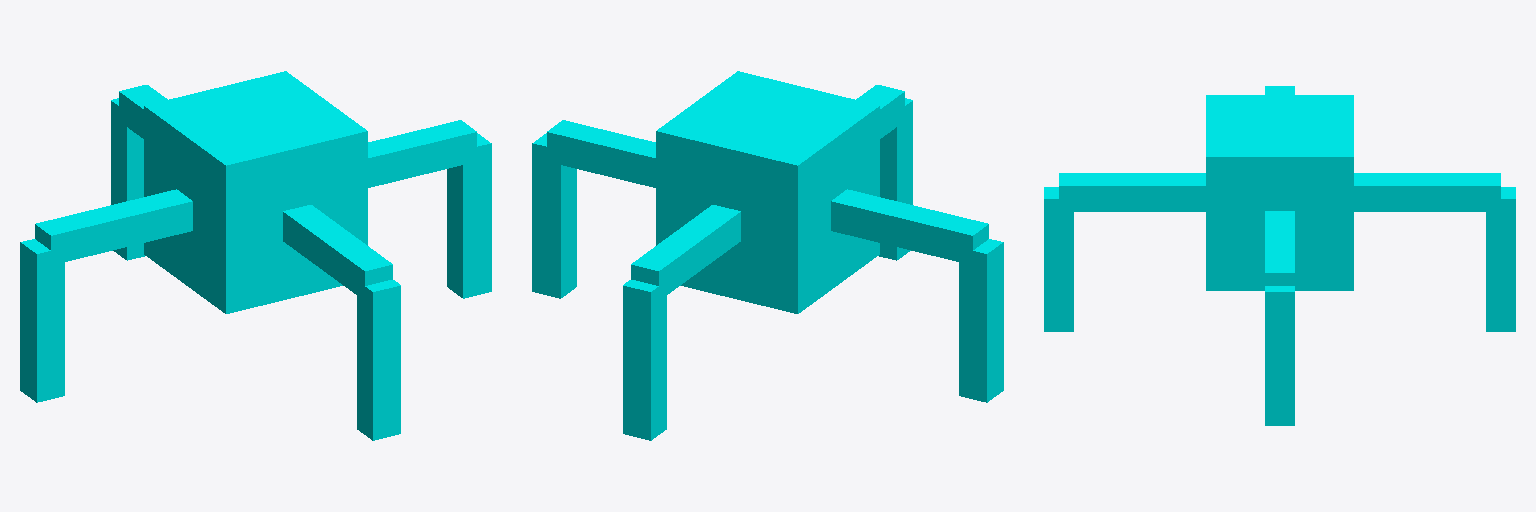
URDF robot description (robot):
<robot name = "robot">
    <link name="Torso">
        <inertial>
            <origin xyz="0.0 0.0 1.0" rpy="0 0 0"/>
            <mass value="1" />
            <inertia ixx="100" ixy="0" ixz="0" iyy="100" iyz="0" izz="100" />
        </inertial>
        <visual>
            <origin xyz="0.0 0.0 1.0" rpy="0 0 0"/>
            <geometry>
                <box size="1.0 1.0 1.0" />
            </geometry>
            <material name="Cyan">
                <color rgba="0 1.0 1.0 1.0"/>
            </material>
        </visual>
        <collision>
            <origin xyz="0.0 0.0 1.0" rpy="0 0 0"/>
            <geometry>
                <box size="1.0 1.0 1.0" />
            </geometry>
        </collision>
    </link>
    <joint name="Torso_BackLeg" type="revolute">
       <parent link="Torso"/>
       <child  link="BackLeg"/>
       <origin rpy="0 0 0" xyz="0.0 -0.5 1.0" />
     <axis xyz="1 0 0"/>
       <limit effort="0.0" lower="-3.14159" upper="3.14159" velocity="0.0"/>
    </joint>
    <link name="BackLeg">
        <inertial>
            <origin xyz="0.0 -0.5 0.0" rpy="0 0 0"/>
            <mass value="1" />
            <inertia ixx="100" ixy="0" ixz="0" iyy="100" iyz="0" izz="100" />
        </inertial>
        <visual>
            <origin xyz="0.0 -0.5 0.0" rpy="0 0 0"/>
            <geometry>
                <box size="0.2 1.0 0.2" />
            </geometry>
            <material name="Cyan">
                <color rgba="0 1.0 1.0 1.0"/>
            </material>
        </visual>
        <collision>
            <origin xyz="0.0 -0.5 0.0" rpy="0 0 0"/>
            <geometry>
                <box size="0.2 1.0 0.2" />
            </geometry>
        </collision>
    </link>
    <joint name="Torso_FrontLeg" type="revolute">
       <parent link="Torso"/>
       <child  link="FrontLeg"/>
       <origin rpy="0 0 0" xyz="0.0 0.5 1.0" />
     <axis xyz="1 0 0"/>
       <limit effort="0.0" lower="-3.14159" upper="3.14159" velocity="0.0"/>
    </joint>
    <link name="FrontLeg">
        <inertial>
            <origin xyz="0.0 0.5 0.0" rpy="0 0 0"/>
            <mass value="1" />
            <inertia ixx="100" ixy="0" ixz="0" iyy="100" iyz="0" izz="100" />
        </inertial>
        <visual>
            <origin xyz="0.0 0.5 0.0" rpy="0 0 0"/>
            <geometry>
                <box size="0.2 1.0 0.2" />
            </geometry>
            <material name="Cyan">
                <color rgba="0 1.0 1.0 1.0"/>
            </material>
        </visual>
        <collision>
            <origin xyz="0.0 0.5 0.0" rpy="0 0 0"/>
            <geometry>
                <box size="0.2 1.0 0.2" />
            </geometry>
        </collision>
    </link>
    <joint name="Torso_LeftLeg" type="revolute">
       <parent link="Torso"/>
       <child  link="LeftLeg"/>
       <origin rpy="0 0 0" xyz="-0.5 0.0 1.0" />
     <axis xyz="0 1 0"/>
       <limit effort="0.0" lower="-3.14159" upper="3.14159" velocity="0.0"/>
    </joint>
    <link name="LeftLeg">
        <inertial>
            <origin xyz="-0.5 0.0 0.0" rpy="0 0 0"/>
            <mass value="1" />
            <inertia ixx="100" ixy="0" ixz="0" iyy="100" iyz="0" izz="100" />
        </inertial>
        <visual>
            <origin xyz="-0.5 0.0 0.0" rpy="0 0 0"/>
            <geometry>
                <box size="1.0 0.2 0.2" />
            </geometry>
            <material name="Cyan">
                <color rgba="0 1.0 1.0 1.0"/>
            </material>
        </visual>
        <collision>
            <origin xyz="-0.5 0.0 0.0" rpy="0 0 0"/>
            <geometry>
                <box size="1.0 0.2 0.2" />
            </geometry>
        </collision>
    </link>
    <joint name="Torso_RightLeg" type="revolute">
       <parent link="Torso"/>
       <child  link="RightLeg"/>
       <origin rpy="0 0 0" xyz="0.5 0.0 1.0" />
     <axis xyz="0 1 0"/>
       <limit effort="0.0" lower="-3.14159" upper="3.14159" velocity="0.0"/>
    </joint>
    <link name="RightLeg">
        <inertial>
            <origin xyz="0.5 0.0 0.0" rpy="0 0 0"/>
            <mass value="1" />
            <inertia ixx="100" ixy="0" ixz="0" iyy="100" iyz="0" izz="100" />
        </inertial>
        <visual>
            <origin xyz="0.5 0.0 0.0" rpy="0 0 0"/>
            <geometry>
                <box size="1.0 0.2 0.2" />
            </geometry>
            <material name="Cyan">
                <color rgba="0 1.0 1.0 1.0"/>
            </material>
        </visual>
        <collision>
            <origin xyz="0.5 0.0 0.0" rpy="0 0 0"/>
            <geometry>
                <box size="1.0 0.2 0.2" />
            </geometry>
        </collision>
    </link>
    <joint name="BackLeg_BackLowerLeg" type="revolute">
       <parent link="BackLeg"/>
       <child  link="BackLowerLeg"/>
       <origin rpy="0 0 0" xyz="0.0 -1.0 0.0" />
     <axis xyz="1 0 0"/>
       <limit effort="0.0" lower="-3.14159" upper="3.14159" velocity="0.0"/>
    </joint>
    <link name="BackLowerLeg">
        <inertial>
            <origin xyz="0.0 0.0 -0.5" rpy="0 0 0"/>
            <mass value="1" />
            <inertia ixx="100" ixy="0" ixz="0" iyy="100" iyz="0" izz="100" />
        </inertial>
        <visual>
            <origin xyz="0.0 0.0 -0.5" rpy="0 0 0"/>
            <geometry>
                <box size="0.2 0.2 1.0" />
            </geometry>
            <material name="Cyan">
                <color rgba="0 1.0 1.0 1.0"/>
            </material>
        </visual>
        <collision>
            <origin xyz="0.0 0.0 -0.5" rpy="0 0 0"/>
            <geometry>
                <box size="0.2 0.2 1.0" />
            </geometry>
        </collision>
    </link>
    <joint name="FrontLeg_FrontLowerLeg" type="revolute">
       <parent link="FrontLeg"/>
       <child  link="FrontLowerLeg"/>
       <origin rpy="0 0 0" xyz="0.0 1.0 0.0" />
     <axis xyz="1 0 0"/>
       <limit effort="0.0" lower="-3.14159" upper="3.14159" velocity="0.0"/>
    </joint>
    <link name="FrontLowerLeg">
        <inertial>
            <origin xyz="0.0 0.0 -0.5" rpy="0 0 0"/>
            <mass value="1" />
            <inertia ixx="100" ixy="0" ixz="0" iyy="100" iyz="0" izz="100" />
        </inertial>
        <visual>
            <origin xyz="0.0 0.0 -0.5" rpy="0 0 0"/>
            <geometry>
                <box size="0.2 0.2 1.0" />
            </geometry>
            <material name="Cyan">
                <color rgba="0 1.0 1.0 1.0"/>
            </material>
        </visual>
        <collision>
            <origin xyz="0.0 0.0 -0.5" rpy="0 0 0"/>
            <geometry>
                <box size="0.2 0.2 1.0" />
            </geometry>
        </collision>
    </link>
    <joint name="LeftLeg_LeftLowerLeg" type="revolute">
       <parent link="LeftLeg"/>
       <child  link="LeftLowerLeg"/>
       <origin rpy="0 0 0" xyz="-1.0 0.0 0.0" />
     <axis xyz="0 1 0"/>
       <limit effort="0.0" lower="-3.14159" upper="3.14159" velocity="0.0"/>
    </joint>
    <link name="LeftLowerLeg">
        <inertial>
            <origin xyz="0.0 0.0 -0.5" rpy="0 0 0"/>
            <mass value="1" />
            <inertia ixx="100" ixy="0" ixz="0" iyy="100" iyz="0" izz="100" />
        </inertial>
        <visual>
            <origin xyz="0.0 0.0 -0.5" rpy="0 0 0"/>
            <geometry>
                <box size="0.2 0.2 1.0" />
            </geometry>
            <material name="Cyan">
                <color rgba="0 1.0 1.0 1.0"/>
            </material>
        </visual>
        <collision>
            <origin xyz="0.0 0.0 -0.5" rpy="0 0 0"/>
            <geometry>
                <box size="0.2 0.2 1.0" />
            </geometry>
        </collision>
    </link>
    <joint name="RightLeg_RightLowerLeg" type="revolute">
       <parent link="RightLeg"/>
       <child  link="RightLowerLeg"/>
       <origin rpy="0 0 0" xyz="1.0 0.0 0.0" />
     <axis xyz="0 1 0"/>
       <limit effort="0.0" lower="-3.14159" upper="3.14159" velocity="0.0"/>
    </joint>
    <link name="RightLowerLeg">
        <inertial>
            <origin xyz="0.0 0.0 -0.5" rpy="0 0 0"/>
            <mass value="1" />
            <inertia ixx="100" ixy="0" ixz="0" iyy="100" iyz="0" izz="100" />
        </inertial>
        <visual>
            <origin xyz="0.0 0.0 -0.5" rpy="0 0 0"/>
            <geometry>
                <box size="0.2 0.2 1.0" />
            </geometry>
            <material name="Cyan">
                <color rgba="0 1.0 1.0 1.0"/>
            </material>
        </visual>
        <collision>
            <origin xyz="0.0 0.0 -0.5" rpy="0 0 0"/>
            <geometry>
                <box size="0.2 0.2 1.0" />
            </geometry>
        </collision>
    </link>
</robot>

--- What the picture shows (computed from the rendered views, not written in the file) ---
The picture shows the robot from 3 angles, left to right: view 1: azimuth 30°, elevation 25°; view 2: azimuth 150°, elevation 25°; view 3: azimuth 270°, elevation 25°; orthographic projection.
Robot: robot — 9 links, 8 joints (8 revolute); root link Torso; default pose: all joints at 0.
Visible links, largest first — view 1: Torso, LeftLowerLeg, LeftLeg, BackLowerLeg, RightLowerLeg, BackLeg, RightLeg, FrontLowerLeg, FrontLeg; view 2: Torso, LeftLowerLeg, FrontLowerLeg, LeftLeg, RightLowerLeg, FrontLeg, RightLeg, BackLowerLeg, BackLeg; view 3: Torso, BackLeg, FrontLeg, RightLowerLeg, FrontLowerLeg, BackLowerLeg, RightLeg.
Link boxes in pixels (<box>): Torso: <box>144,71,367,313</box>; LeftLowerLeg: <box>20,239,64,402</box>; LeftLeg: <box>35,189,192,265</box>; BackLowerLeg: <box>357,280,400,440</box>; RightLowerLeg: <box>447,133,491,298</box>; BackLeg: <box>283,205,392,300</box>; RightLeg: <box>368,120,476,187</box>; FrontLowerLeg: <box>111,98,144,260</box>; FrontLeg: <box>119,85,167,138</box>; Torso: <box>656,71,879,313</box>; LeftLowerLeg: <box>959,239,1003,402</box>; FrontLowerLeg: <box>623,280,666,440</box>; LeftLeg: <box>831,189,988,264</box>; RightLowerLeg: <box>532,133,576,298</box>; FrontLeg: <box>631,205,740,299</box>; RightLeg: <box>547,120,655,187</box>; BackLowerLeg: <box>879,98,912,260</box>; BackLeg: <box>856,85,904,138</box>; Torso: <box>1206,95,1353,290</box>; BackLeg: <box>1059,173,1205,211</box>; FrontLeg: <box>1354,173,1500,211</box>; RightLowerLeg: <box>1265,286,1294,425</box>; FrontLowerLeg: <box>1486,187,1515,331</box>; BackLowerLeg: <box>1044,187,1073,331</box>; RightLeg: <box>1265,211,1294,285</box>.
Bounding box of the posed robot: 3.2 × 3.2 × 1.5 m (x, y, z).
Geometry: primitives only (box / cylinder / sphere), no mesh files.